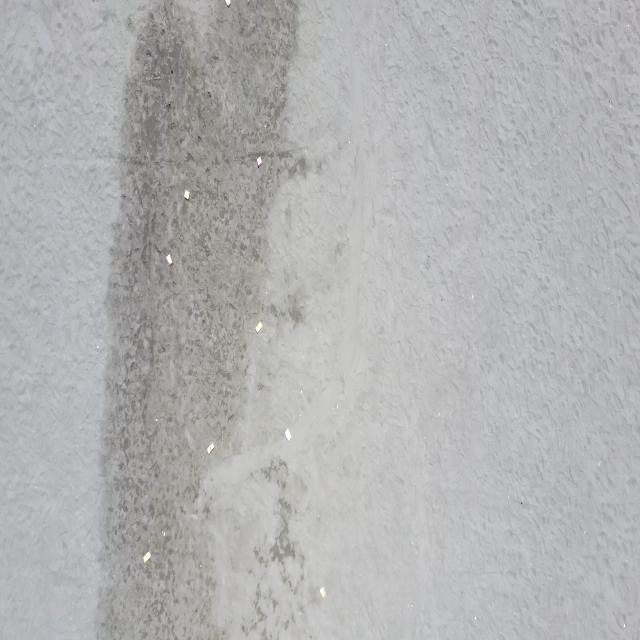retort-pouch: (284, 427, 293, 443), (256, 154, 264, 170), (206, 441, 215, 455), (255, 320, 263, 335), (183, 187, 191, 202), (166, 252, 174, 267), (143, 550, 151, 564), (319, 586, 327, 598)
